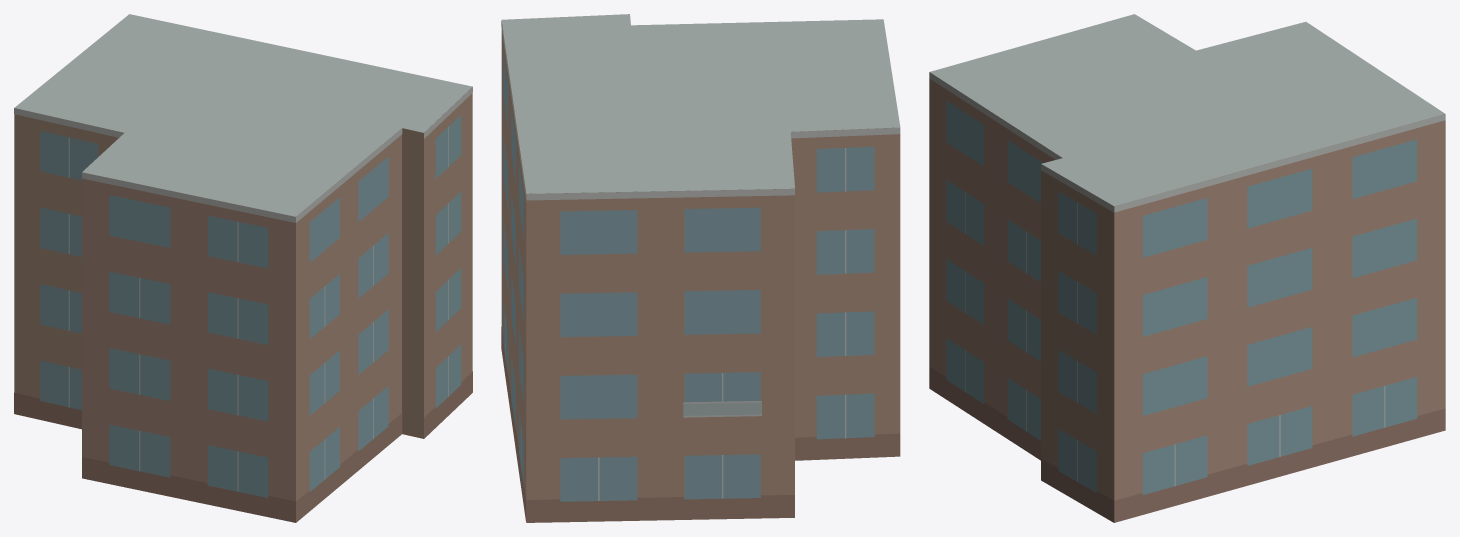
File: survey-upis-32802759.glb
3 renders of one model, left to right at view 1: azimuth 30°, elevation 25°; view 2: azimuth 150°, elevation 25°; view 3: azimuth 270°, elevation 25°, orthographic. The views are drawn at different scales.
Parts seen in each view (by area): view 1: survey-upis-32802759.tmp; view 2: survey-upis-32802759.tmp; view 3: survey-upis-32802759.tmp.
Part boxes in pixels (bbox=[...]): survey-upis-32802759.tmp: bbox=[14, 14, 472, 522]; survey-upis-32802759.tmp: bbox=[501, 14, 900, 522]; survey-upis-32802759.tmp: bbox=[929, 14, 1445, 522].
Bounding box in the file's own units: 15.77 × 12.1 × 17.89.
